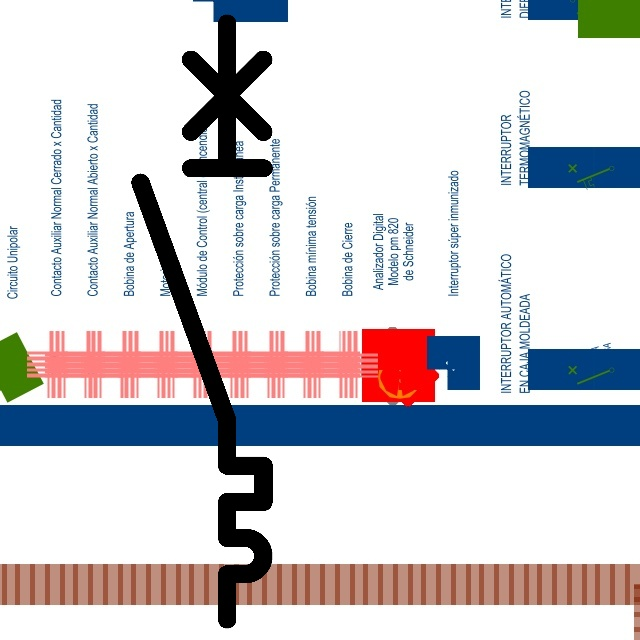interruptor_termomagnetico: (125, 8, 279, 635)
